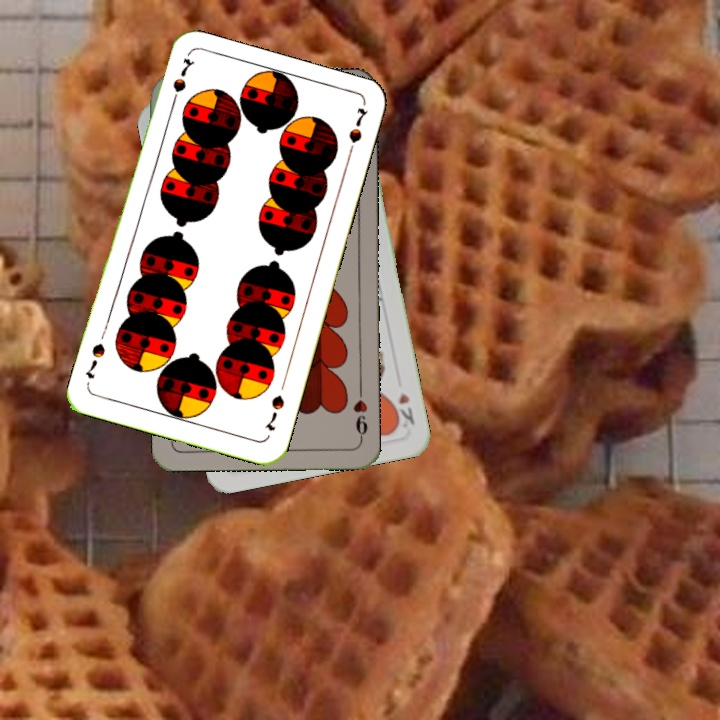H9: (349, 384, 370, 443)
HK: (388, 388, 417, 430)
S7: (166, 54, 196, 111), (261, 390, 287, 434)
